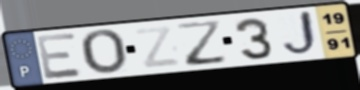3: (233, 16, 275, 61)
E: (34, 31, 86, 81)
J: (280, 8, 321, 59)
O: (77, 28, 129, 76)
Z: (174, 18, 230, 68), (131, 24, 183, 70)
